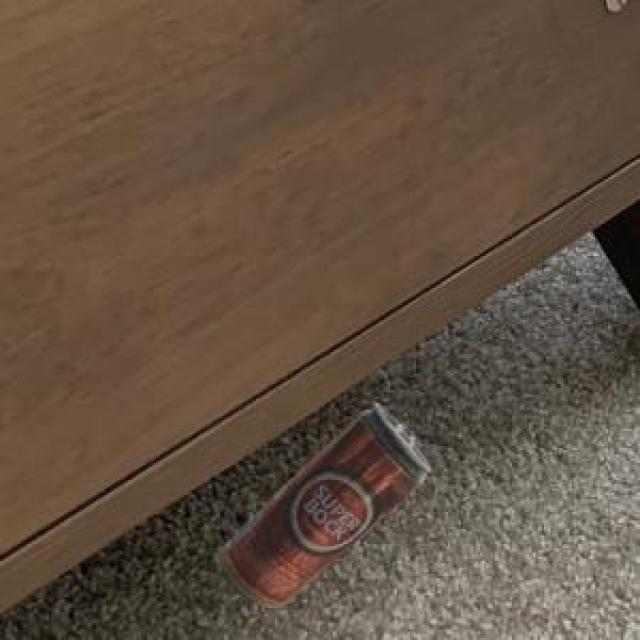Can: (219, 400, 428, 605)
